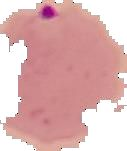parasitized: (21, 1, 78, 40)
